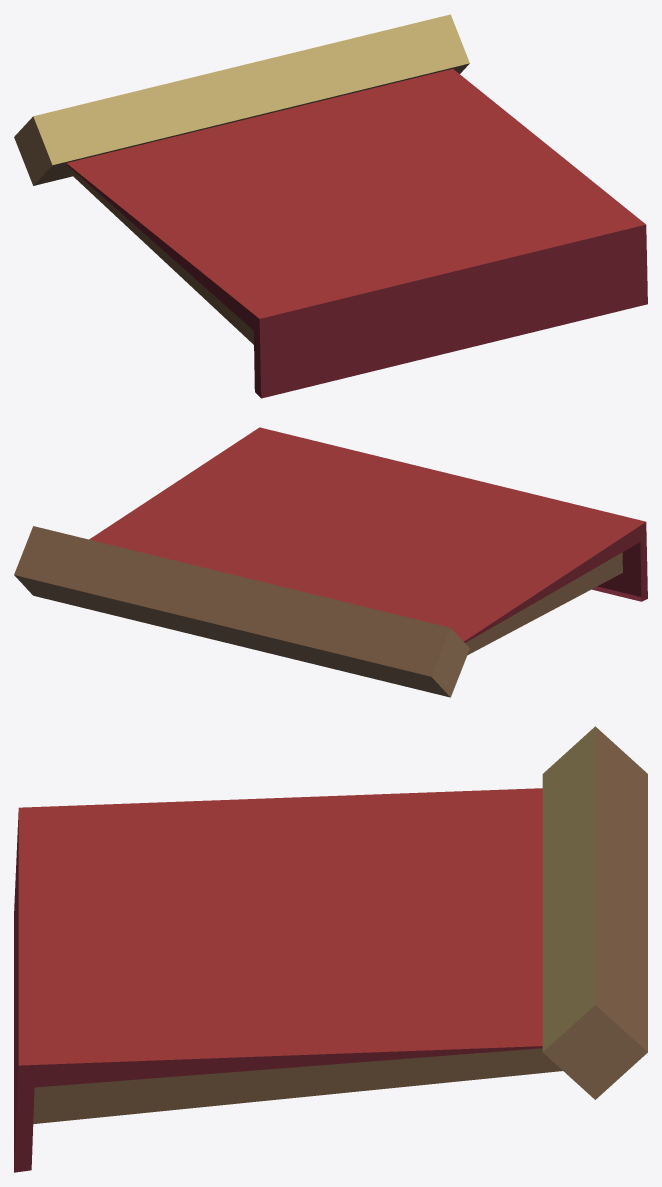
The model's file is TB_D_Bd_Canopy_Sol_A.FBX.
The picture shows the model from 3 angles, top to bottom: view 1: azimuth 30°, elevation 25°; view 2: azimuth 150°, elevation 25°; view 3: azimuth 270°, elevation 25°; orthographic projection. The views are drawn at different scales.
Parts seen in each view (by area): view 1: TB_D_Bd_Canopy_Sol_A; view 2: TB_D_Bd_Canopy_Sol_A; view 3: TB_D_Bd_Canopy_Sol_A.
Boxes of the visible parts, <box> form: TB_D_Bd_Canopy_Sol_A: <box>14,14,647,398</box>; TB_D_Bd_Canopy_Sol_A: <box>14,427,647,697</box>; TB_D_Bd_Canopy_Sol_A: <box>14,726,647,1172</box>.
Size of the model in its own units: 1.88 by 0.5606 by 1.81.
